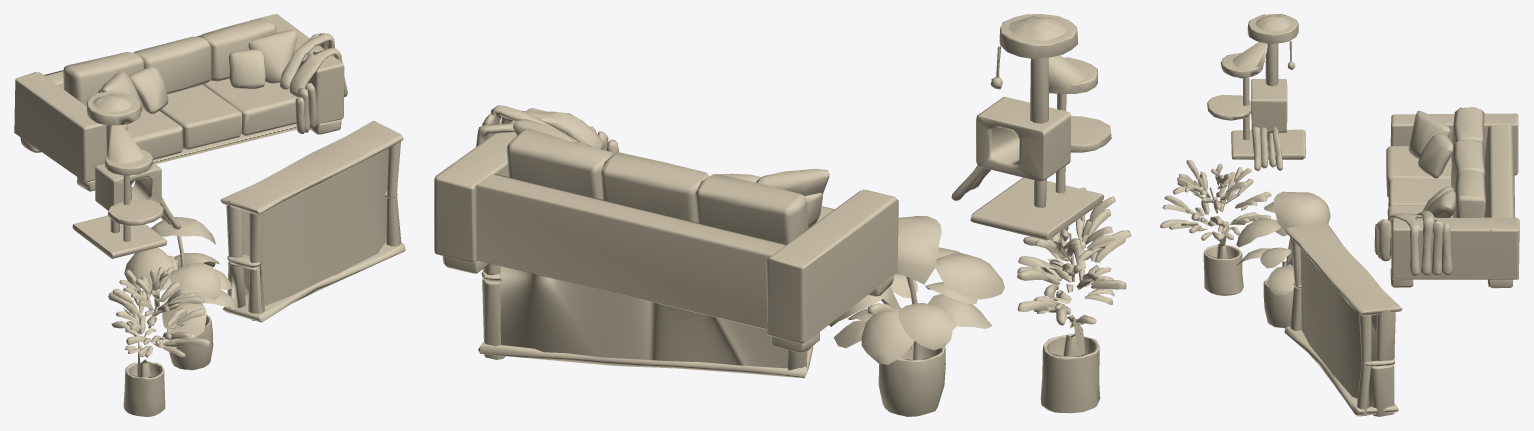
The model's file is living-collection-geometry.glb.
3 renders of one model, left to right at view 1: azimuth 30°, elevation 25°; view 2: azimuth 150°, elevation 25°; view 3: azimuth 270°, elevation 25°, orthographic. The views are drawn at different scales.
Size of the model in its own units: 1 by 0.7773 by 0.9414.
